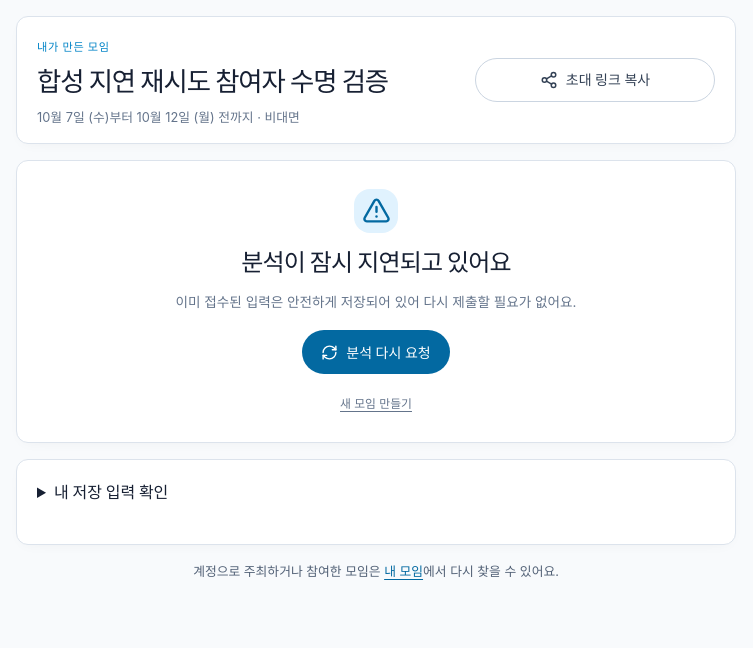
Scenario: delayed retries belong to their initiating joined-owner context › ignores a former HOST retry 200 after a joined MEMBER context takes over the same delayed view
Click the button "분석 다시 요청" at [376, 352], box [302, 330, 450, 374]
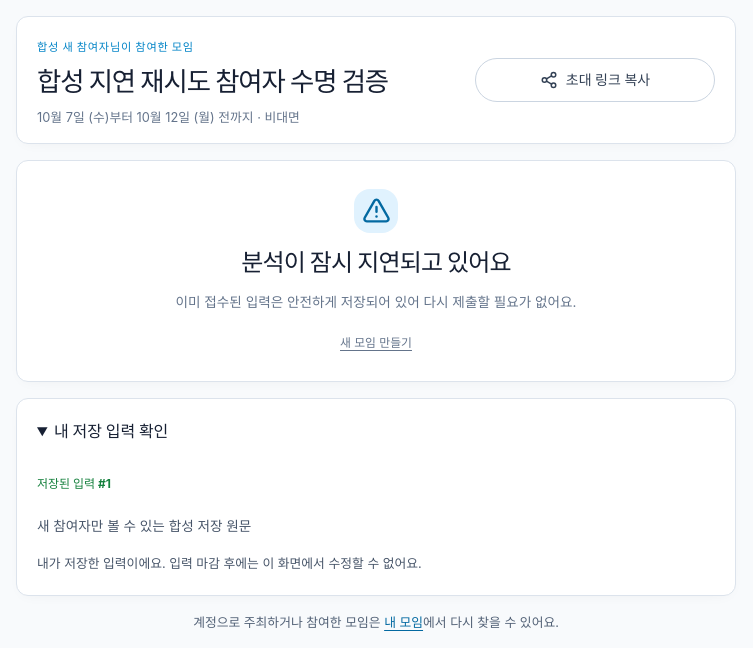
Now the text "합성 새 참여자님이 참여한 모임" is shown, box [37, 40, 194, 54]
Now the text "새 참여자만 볼 수 있는 합성 저장 원문" is shown, box [37, 518, 251, 534]
Now the button "분석 다시 요청" is gone
